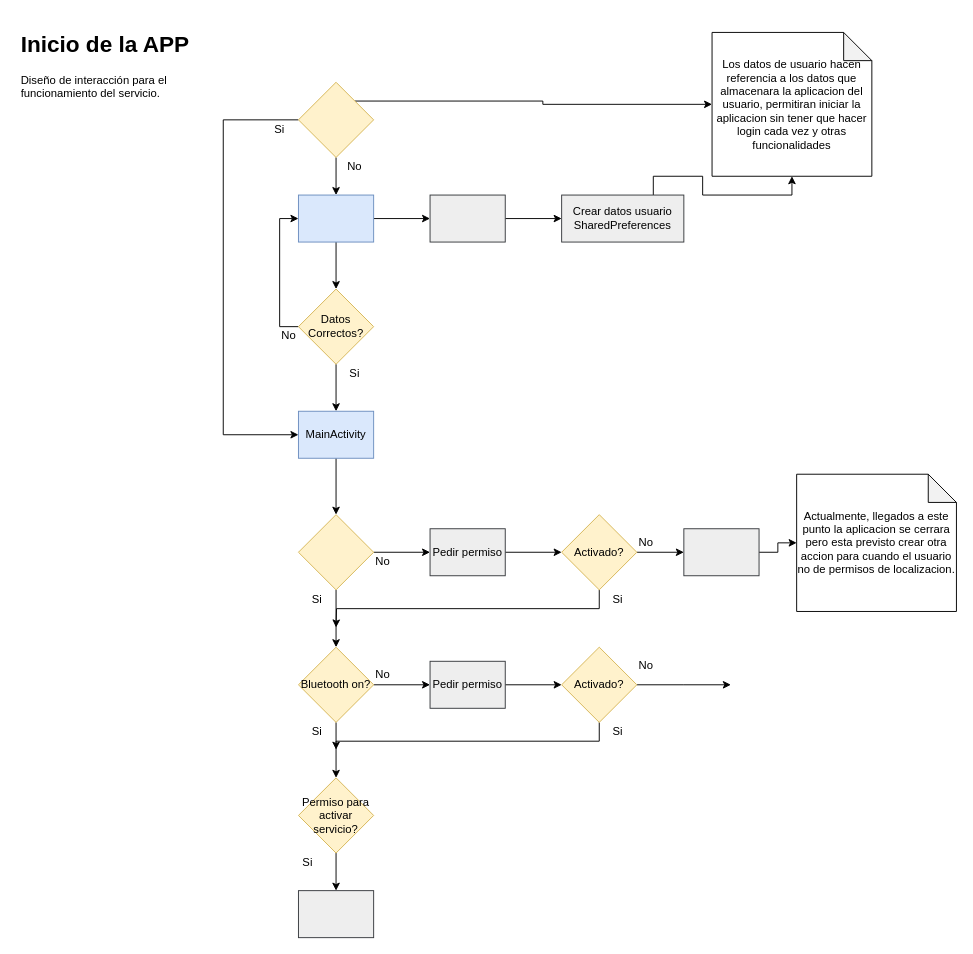
Some shapes in this 973 by 954 pixel diagram are drawn without their labels. The shapes that lost their labels are listed below. From the top down, each one's centre as x and y in pixels, then its label:
At (336,119): "Datos Usuario?".
At (336,218): "Login".
At (467,218): "Crear Cuenta".
At (336,552): "GPS on?".
At (721,552): "Exit".
At (336,914): "Lanzar Servicio".
